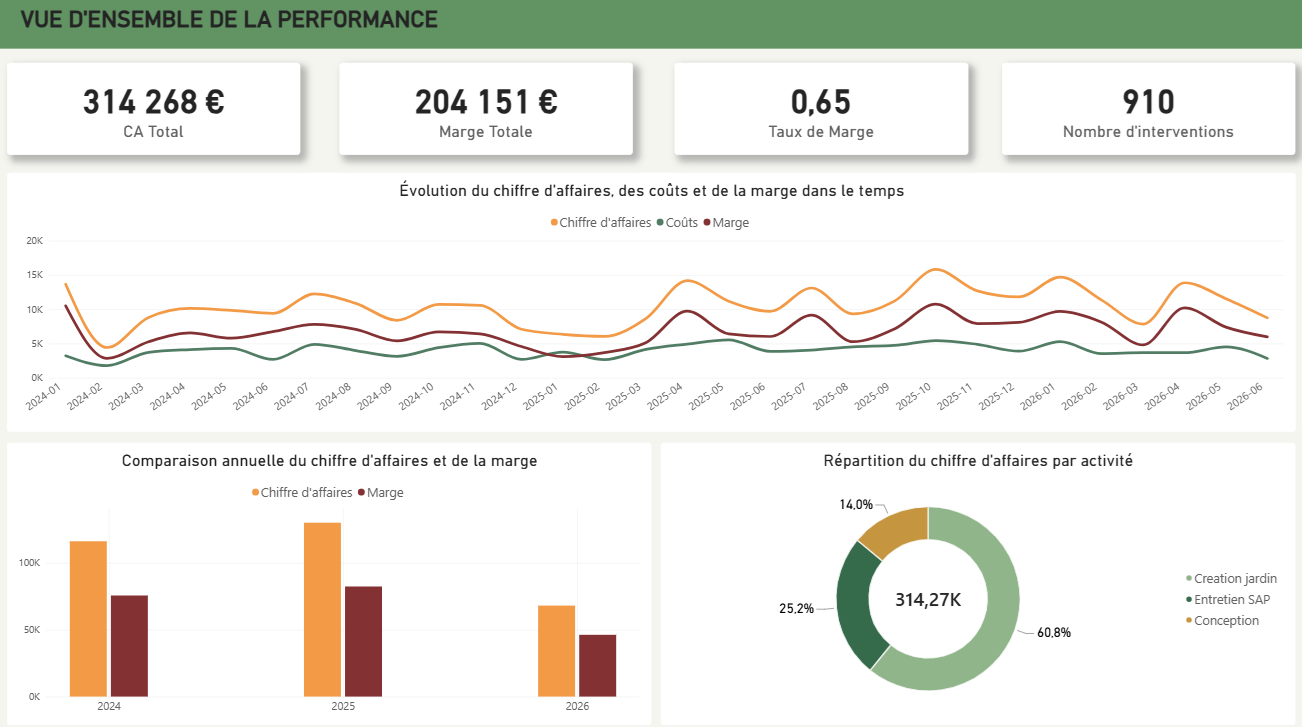

The page's visual inventory and layout, read from the dashboard file:
{"tool":"powerbi","page":{"name":"VUE D'ENSEMBLE DE LA PERFORMANCE","canvas":[1920,1080],"ordinal":0},"visuals":[{"type":"donutChart","title":"Répartition du chiffre d''affaires par activité","fields":{"Category":["DIM_Prestation.activite"],"Y":["Sum(FACT_Prestation.CA_HT_eur)"]},"box":[974.5,650.9,930.9,414.5],"z":0},{"type":"card","fields":{"Values":["_Mesures.CA Total"]},"box":[14.5,93,430,135],"z":1000},{"type":"card","fields":{"Values":["_Mesures.Marge Totale"]},"box":[503,93,430,135],"z":2000},{"type":"card","fields":{"Values":["_Mesures.Nombre_interventions"]},"box":[1474.5,93,430,135],"z":3000},{"type":"card","fields":{"Values":["_Mesures.Taux de Marge"]},"box":[994.5,93,430.9,135],"z":4000},{"type":"lineChart","title":"Évolution du chiffre d''affaires, des coûts et de la marge dans le temps","fields":{"Category":["DIM_Date2.mois"],"Y":["Sum(FACT_Prestation.CA_HT_eur)","Sum(FACT_Prestation.couts_eur)","Sum(FACT_Prestation.marge_eur)"]},"box":[14.5,255,1890.9,380],"z":5000},{"type":"textbox","box":[25.3,10,684.1,67],"z":6000},{"type":"clusteredColumnChart","title":"Comparaison annuelle du chiffre d''affaires et de la marge","fields":{"Category":["DIM_Date2.annee"],"Y":["Sum(FACT_Prestation.CA_HT_eur)","Sum(FACT_Prestation.marge_eur)"]},"box":[14.5,650.9,945.5,414.5],"z":7000}]}

Visuals, with their boxes in screenshot pixels (x1, y1, x2, y2), scaled from the page's 1920x1080 canvas onto the 1302x727 screenshot:
"Répartition du chiffre d''affaires par activité" donutChart: Rect(661, 438, 1292, 717)
card - _Mesures.CA Total: Rect(10, 63, 301, 153)
card - _Mesures.Marge Totale: Rect(341, 63, 633, 153)
card - _Mesures.Nombre_interventions: Rect(1000, 63, 1291, 153)
card - _Mesures.Taux de Marge: Rect(674, 63, 967, 153)
"Évolution du chiffre d''affaires, des coûts et de la marge dans le temps" lineChart: Rect(10, 172, 1292, 427)
textbox: Rect(17, 7, 481, 52)
"Comparaison annuelle du chiffre d''affaires et de la marge" clusteredColumnChart: Rect(10, 438, 651, 717)
